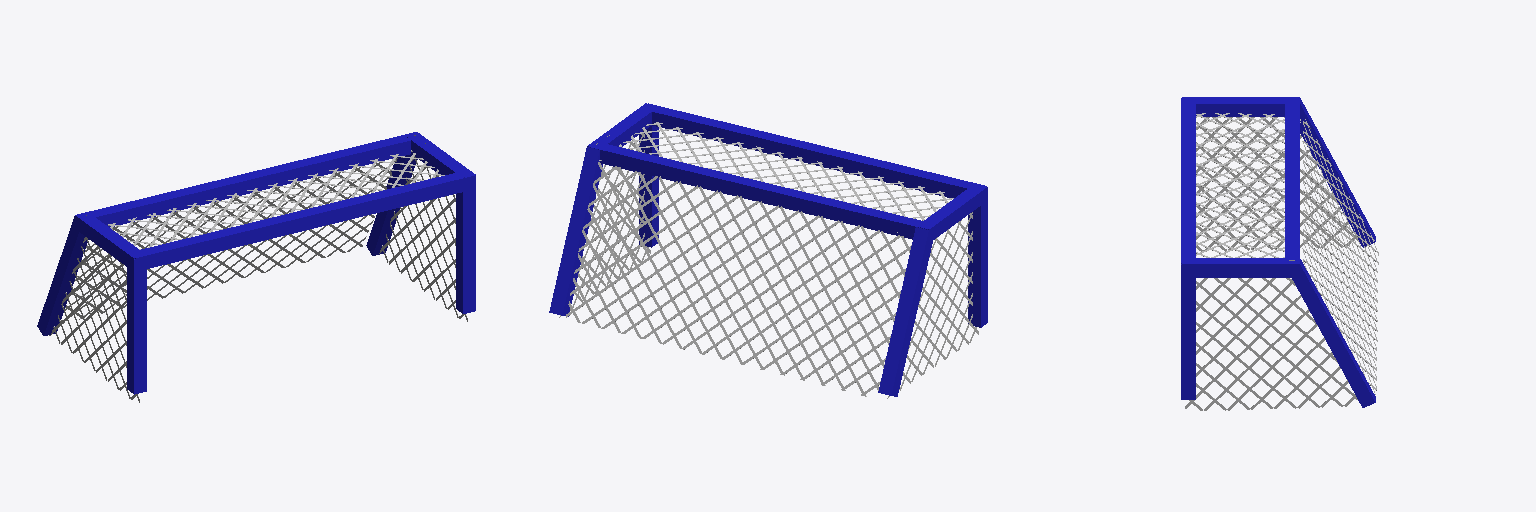
The model's file is goal_blue.obj.
3 views of the same model, side by side, from view 1: azimuth 30°, elevation 25°; view 2: azimuth 150°, elevation 25°; view 3: azimuth 270°, elevation 25° (orthographic).
Visible parts, largest first — view 1: Cube.002_Cube.024, Cube.000_Cube.062, Cube.001_Cube.063, Cube.003_Cube.064, Cube.004_Cube.065; view 2: Cube.002_Cube.024, Cube.000_Cube.062, Cube.001_Cube.063, Cube.003_Cube.064, Cube.004_Cube.065; view 3: Cube.002_Cube.024, Cube.004_Cube.065, Cube.001_Cube.063, Cube.000_Cube.062, Cube.003_Cube.064.
Boxes of the visible parts, x1=… form: Cube.002_Cube.024: x1=37, y1=132, x2=475, y2=394; Cube.000_Cube.062: x1=61, y1=158, x2=397, y2=323; Cube.001_Cube.063: x1=108, y1=150, x2=444, y2=249; Cube.003_Cube.064: x1=49, y1=215, x2=139, y2=402; Cube.004_Cube.065: x1=379, y1=135, x2=467, y2=321; Cube.002_Cube.024: x1=549, y1=103, x2=987, y2=396; Cube.000_Cube.062: x1=566, y1=162, x2=911, y2=396; Cube.001_Cube.063: x1=599, y1=122, x2=953, y2=232; Cube.003_Cube.064: x1=887, y1=212, x2=978, y2=398; Cube.004_Cube.065: x1=559, y1=134, x2=650, y2=317; Cube.002_Cube.024: x1=1181, y1=97, x2=1375, y2=407; Cube.004_Cube.065: x1=1185, y1=260, x2=1357, y2=410; Cube.001_Cube.063: x1=1196, y1=113, x2=1300, y2=257; Cube.000_Cube.062: x1=1302, y1=119, x2=1378, y2=394; Cube.003_Cube.064: x1=1196, y1=117, x2=1366, y2=251.
Bounding box in the file's own units: 15.22 × 6.49 × 7.61.